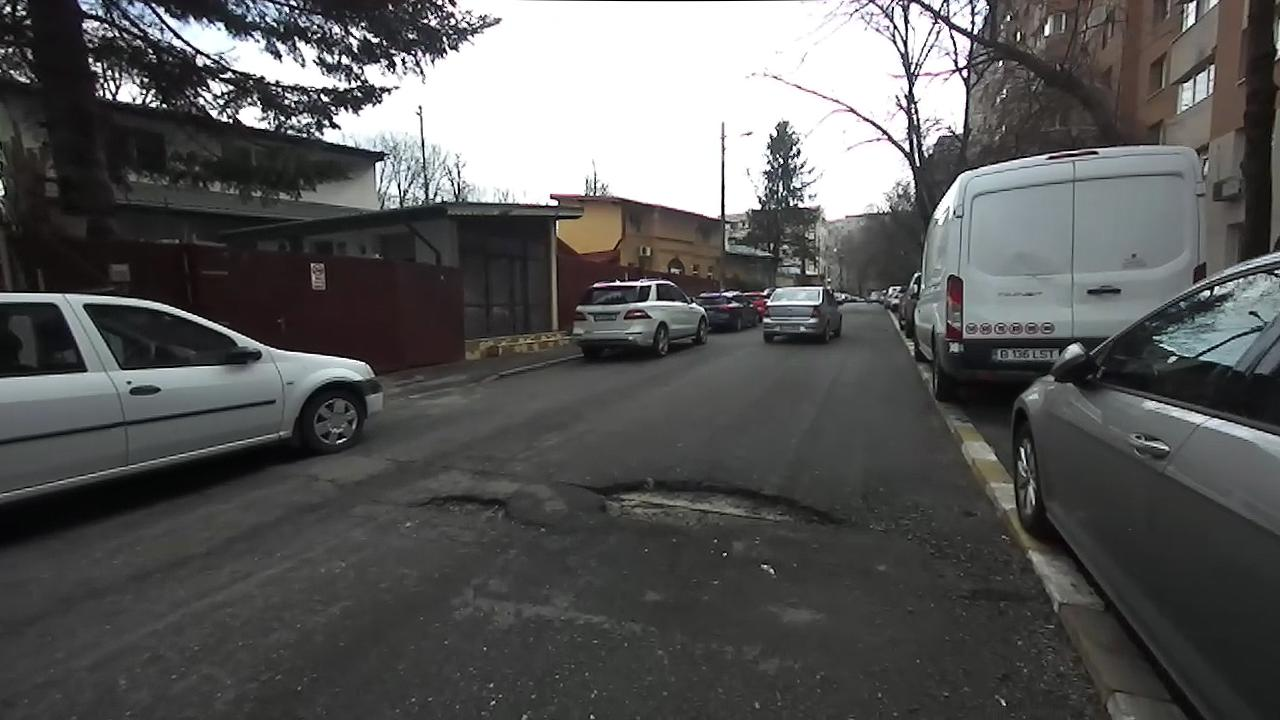pothole: (588, 471, 848, 545), (409, 490, 546, 535)
